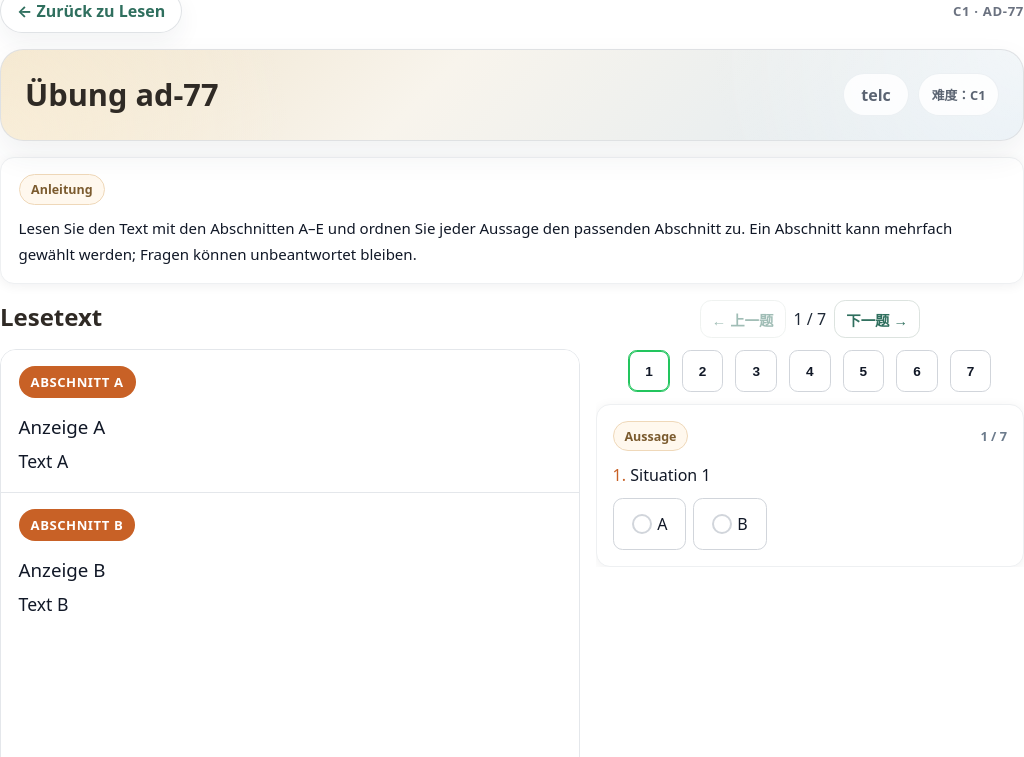
Test: ReadingAdMatchingPage annotations › shows all seven C1 practice situations and labels only the version 2 backup
The image size is (1024, 757).
Expected: the text "Situation 1" is shown, [630,464,710,486]
Expected: the text with class "reading-ad-question-card__progress" reads "1 / 7", [980,427,1007,445]
Click the button "7" at (971, 371), box [950,350,991,392]
(page scrolled)
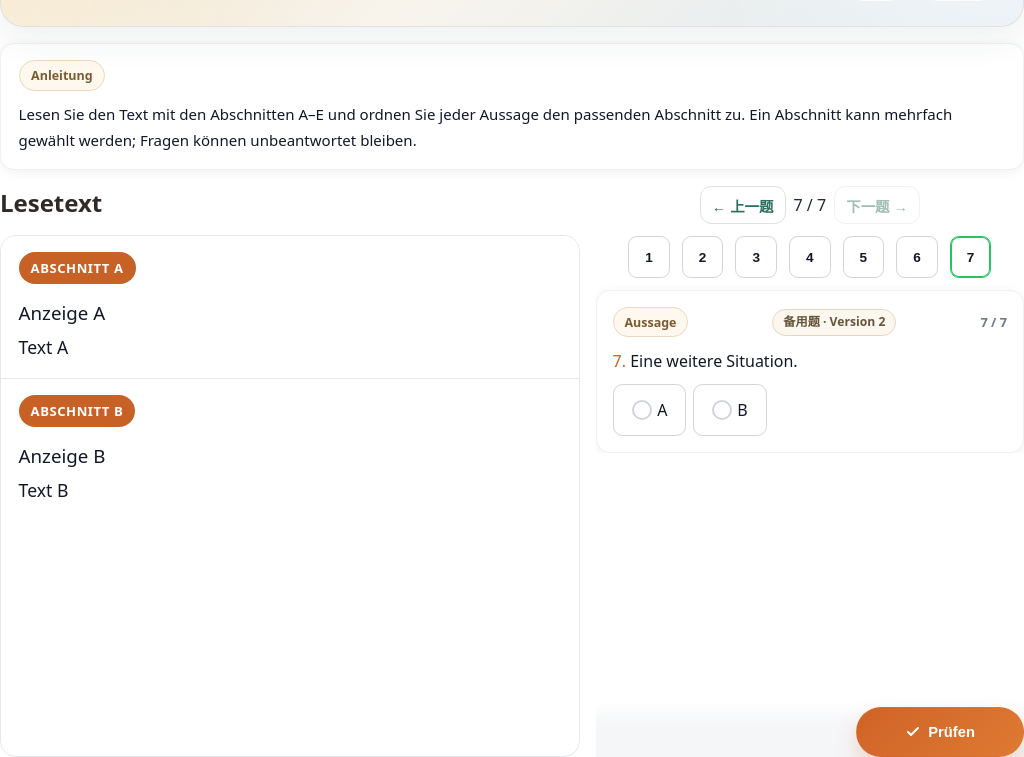
Expected: the text "Eine weitere Situation." is shown, [630,350,798,372]
Expected: the text "备用题 · Version 2" is shown, [772,309,896,336]
Click the button "Prüfen" at (940, 732), box [856,707,1023,756]
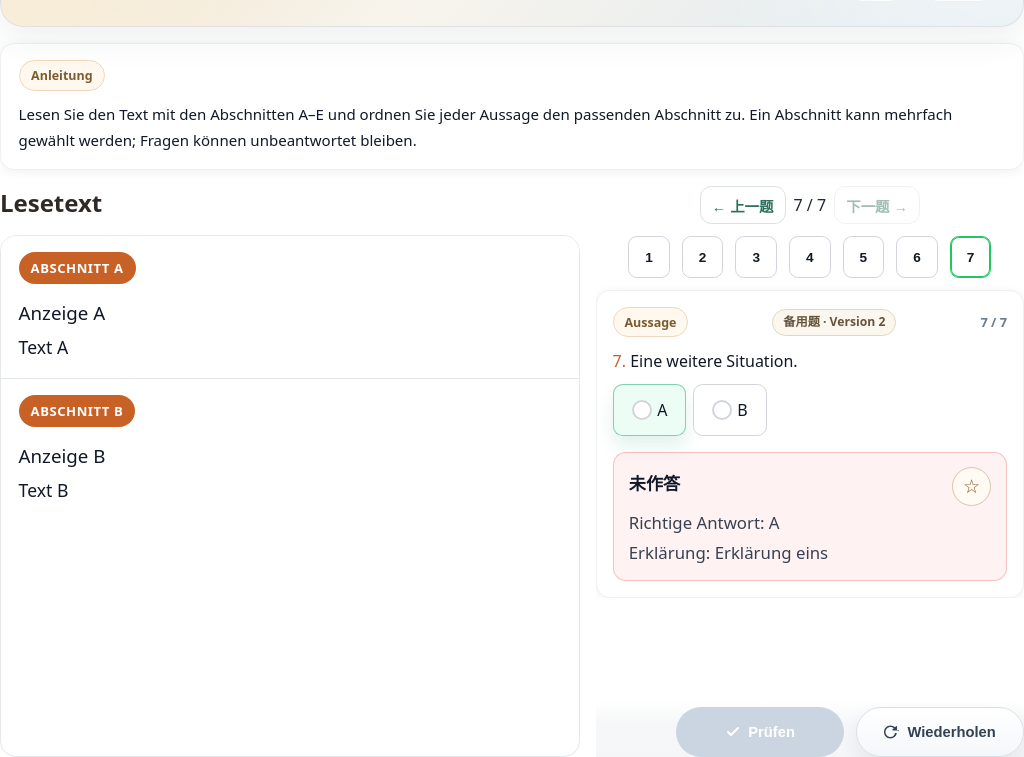
Expected: the button "Wiederholen" is shown
Click the button "Wiederholen" at (940, 732), box [856,707,1023,756]
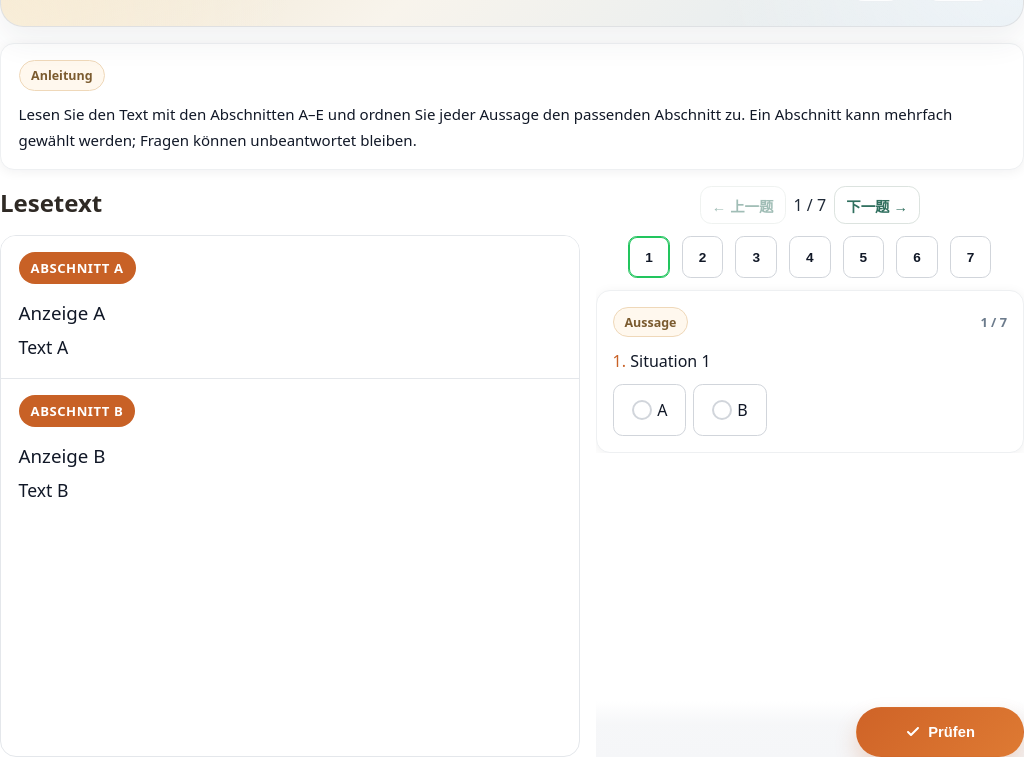
Expected: the text "Situation 1" is shown, [630,350,710,372]
